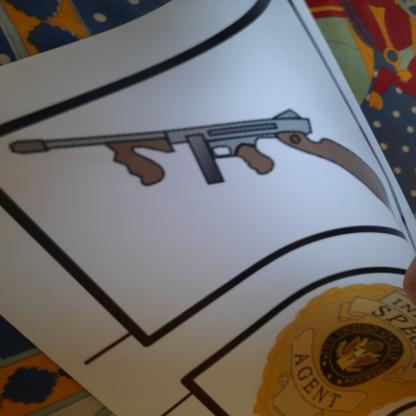Bootlegger: (1, 100, 397, 255)
G-man: (200, 275, 416, 416)
